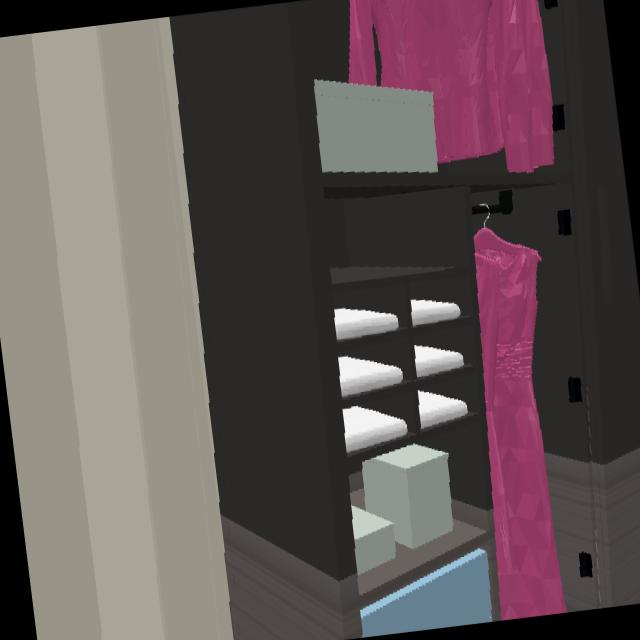wardrobe: (171, 0, 640, 640)
